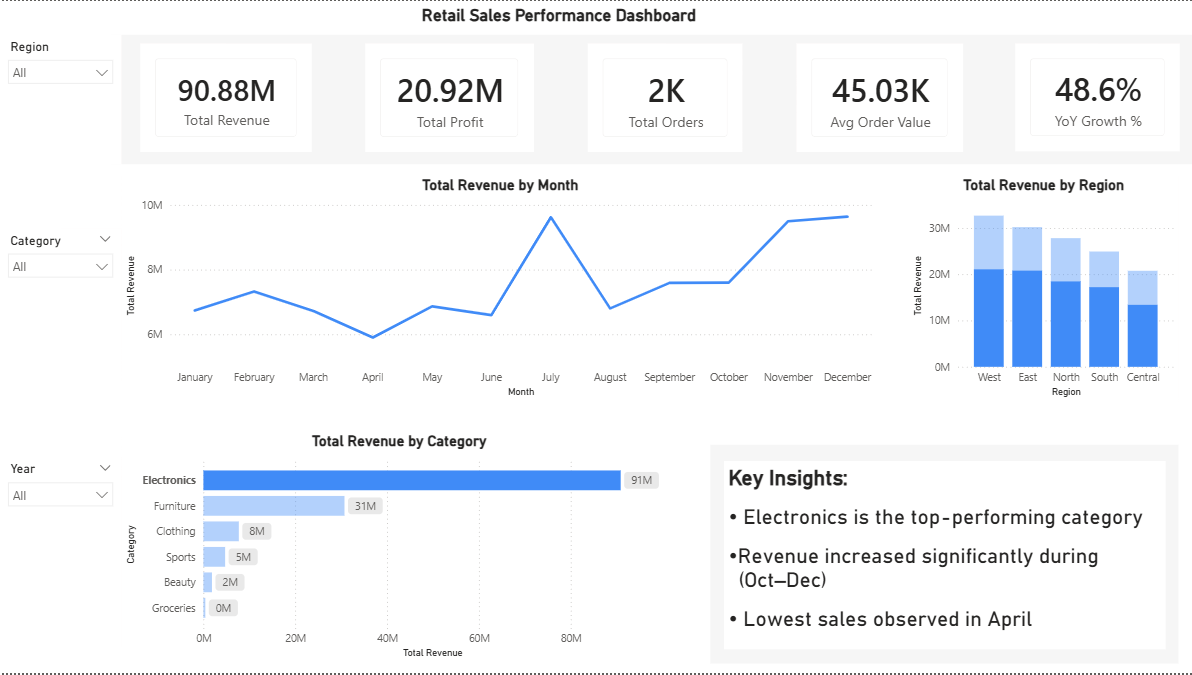

The page's visual inventory and layout, read from the dashboard file:
{"tool":"powerbi","page":{"name":"Page 1","canvas":[1366,768],"ordinal":0},"visuals":[{"type":"shape","box":[813.3,506.7,535,250],"z":0},{"type":"shape","box":[128,38,1238,148],"z":1000},{"type":"cardVisual","fields":{"Data":["Sales_Data.Total Revenue"]},"box":[162,48,196,124],"z":2000},{"type":"cardVisual","fields":{"Data":["Sales_Data.Total Profit"]},"box":[418.9,48.6,192.9,124.3],"z":3000},{"type":"cardVisual","fields":{"Data":["Sales_Data.Total Orders"]},"box":[672.7,48.6,177.1,124.3],"z":4000},{"type":"cardVisual","fields":{"Data":["Sales_Data.Avg Order Value"]},"box":[910.7,48,190,124],"z":5000},{"type":"slicer","fields":{"Values":["Sales_Data.Region"]},"box":[0,38.3,140,148.3],"z":6000},{"type":"slicer","fields":{"Values":["Sales_Data.Category"]},"box":[0,260,140,233.3],"z":7000},{"type":"slicer","fields":{"Values":["Sales_Data.Year"]},"box":[0,521.7,140,246.7],"z":8000},{"type":"lineChart","title":"Total Revenue by Month","fields":{"Y":["Sales_Data.Total Revenue"],"Category":["Sales_Data.Month.Variation.Date Hierarchy.Month"]},"box":[140,200,866,258],"z":9000},{"type":"clusteredBarChart","fields":{"Y":["Sales_Data.Total Revenue"],"Category":["Sales_Data.Category"]},"box":[140,493.3,635,263.3],"z":10000},{"type":"clusteredColumnChart","fields":{"Category":["Sales_Data.Region"],"Y":["Sales_Data.Total Revenue"]},"box":[1040,200,308,258],"z":11000},{"type":"cardVisual","fields":{"Data":["Sales_Data.YoY Growth %"]},"box":[1161.7,48.3,188.3,123.3],"z":12000},{"type":"textbox","box":[0,0,1280,37.1],"z":13000},{"type":"textbox","box":[828.3,525,505,215],"z":14000}]}

Visuals, with their boxes in screenshot pixels (x1, y1, x2, y2), scaled from the page's 1366x768 canvas onto the 1192x675 screenshot:
shape: {"left": 710, "top": 445, "right": 1177, "bottom": 665}
shape: {"left": 112, "top": 33, "right": 1191, "bottom": 163}
cardVisual - Sales_Data.Total Revenue: {"left": 141, "top": 42, "right": 312, "bottom": 151}
cardVisual - Sales_Data.Total Profit: {"left": 366, "top": 43, "right": 534, "bottom": 152}
cardVisual - Sales_Data.Total Orders: {"left": 587, "top": 43, "right": 742, "bottom": 152}
cardVisual - Sales_Data.Avg Order Value: {"left": 795, "top": 42, "right": 960, "bottom": 151}
slicer - Sales_Data.Region: {"left": 0, "top": 34, "right": 122, "bottom": 164}
slicer - Sales_Data.Category: {"left": 0, "top": 229, "right": 122, "bottom": 434}
slicer - Sales_Data.Year: {"left": 0, "top": 459, "right": 122, "bottom": 674}
"Total Revenue by Month" lineChart: {"left": 122, "top": 176, "right": 878, "bottom": 403}
clusteredBarChart - Sales_Data.Total Revenue x Sales_Data.Category: {"left": 122, "top": 434, "right": 676, "bottom": 665}
clusteredColumnChart - Sales_Data.Region x Sales_Data.Total Revenue: {"left": 908, "top": 176, "right": 1176, "bottom": 403}
cardVisual - Sales_Data.YoY Growth %: {"left": 1014, "top": 42, "right": 1178, "bottom": 151}
textbox: {"left": 0, "top": 0, "right": 1117, "bottom": 33}
textbox: {"left": 723, "top": 461, "right": 1163, "bottom": 650}
